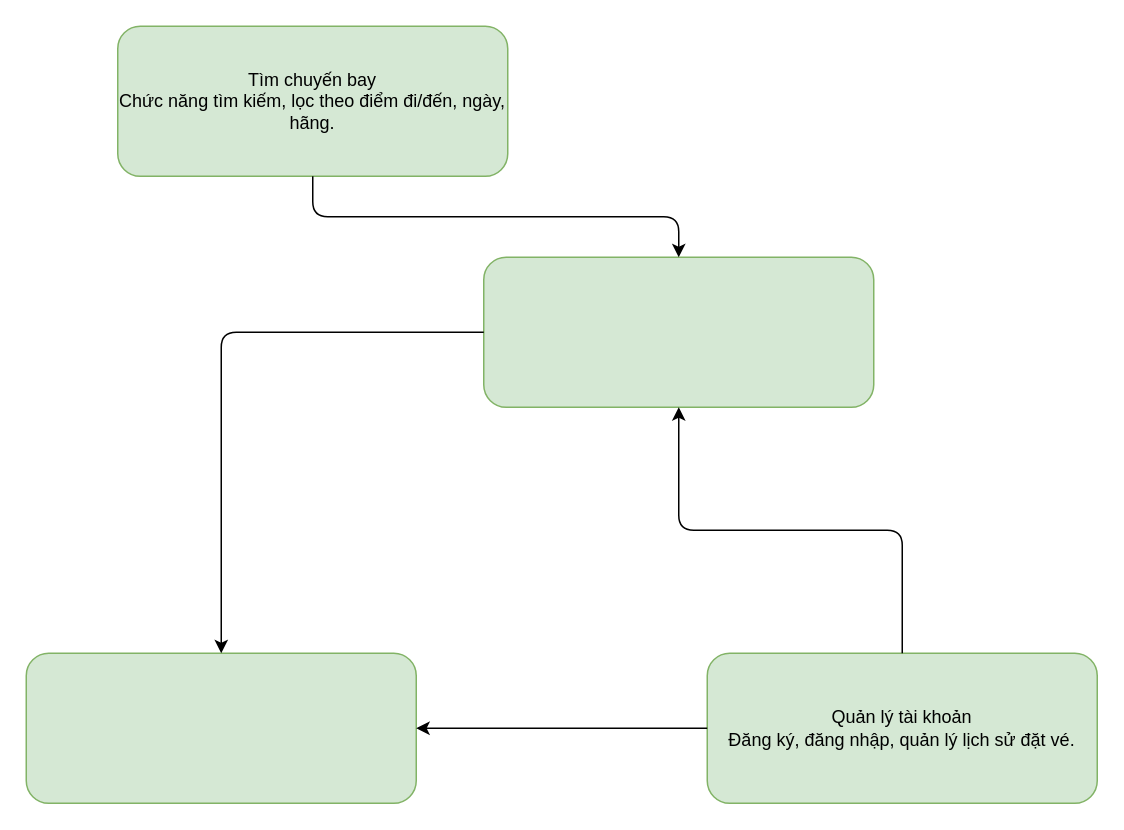
Image size: 1124x830. Some labels were removed from this diagram. The shapes that lost their labels are listed below. From the top down, each one's centre as x and y in pixels, then its label:
the point at 678,331: Đặt vé Chọn chuyến bay, nhập thông tin hành khách, xác nhận vé.
the point at 220,727: Thanh toán Kết nối VNPay, Momo, Visa; xử lý giao dịch.
